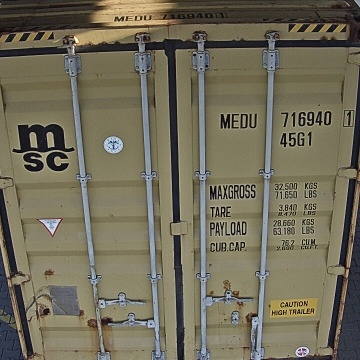serial_id: (221, 110, 354, 128)
